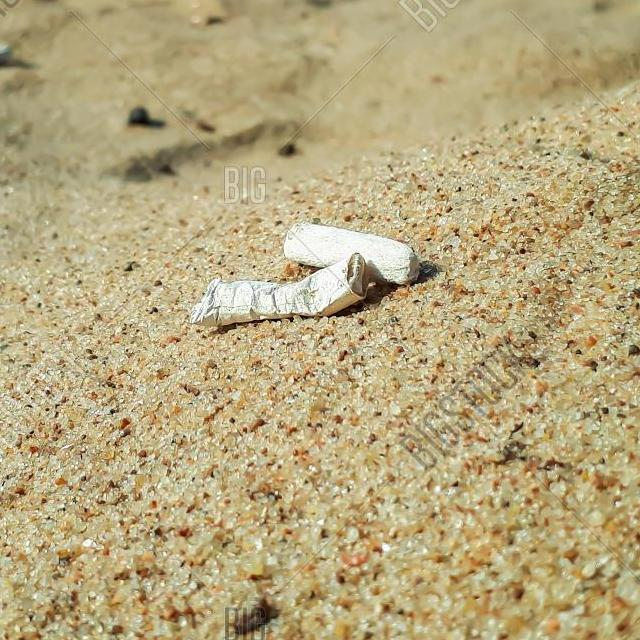Cigarette Butt: (186, 250, 369, 332), (283, 217, 423, 287)
